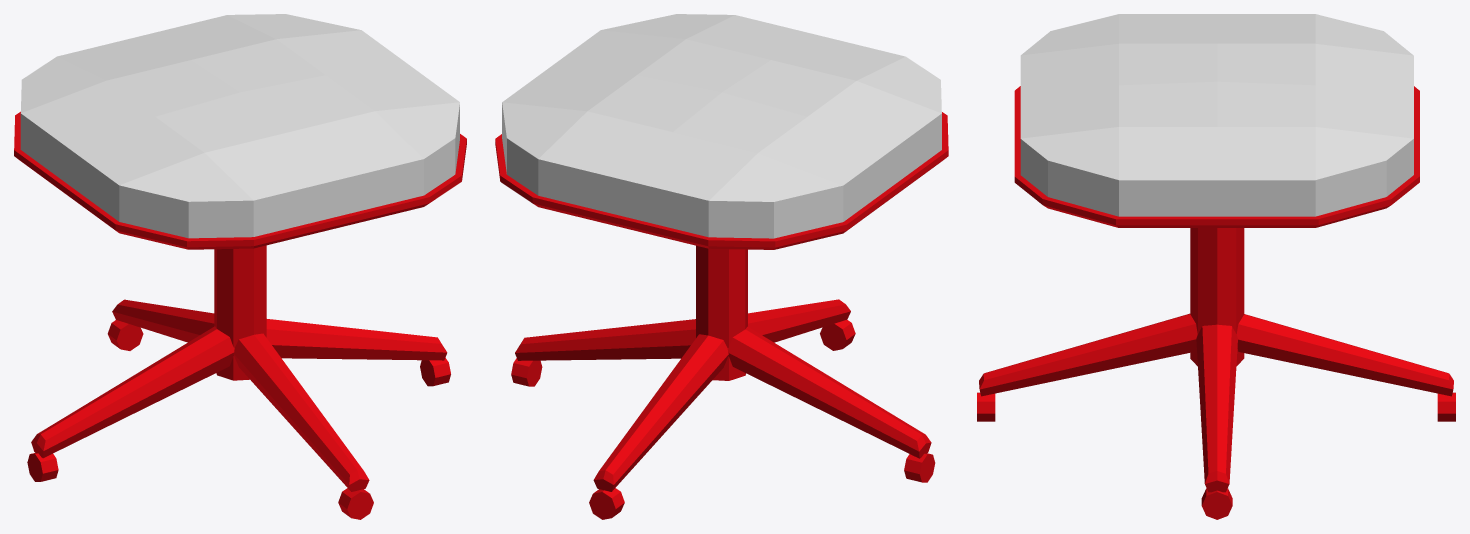
3 views of the same model, side by side, from view 1: azimuth 30°, elevation 25°; view 2: azimuth 150°, elevation 25°; view 3: azimuth 270°, elevation 25° (orthographic).
Parts seen in each view (by area): view 1: M_ChairBase; view 2: M_ChairBase; view 3: M_ChairBase.
Boxes of the visible parts, <box> form: M_ChairBase: <box>14,14,466,519</box>; M_ChairBase: <box>495,14,948,519</box>; M_ChairBase: <box>977,14,1455,519</box>.
Size of the model in its own units: 240 by 190 by 243.
